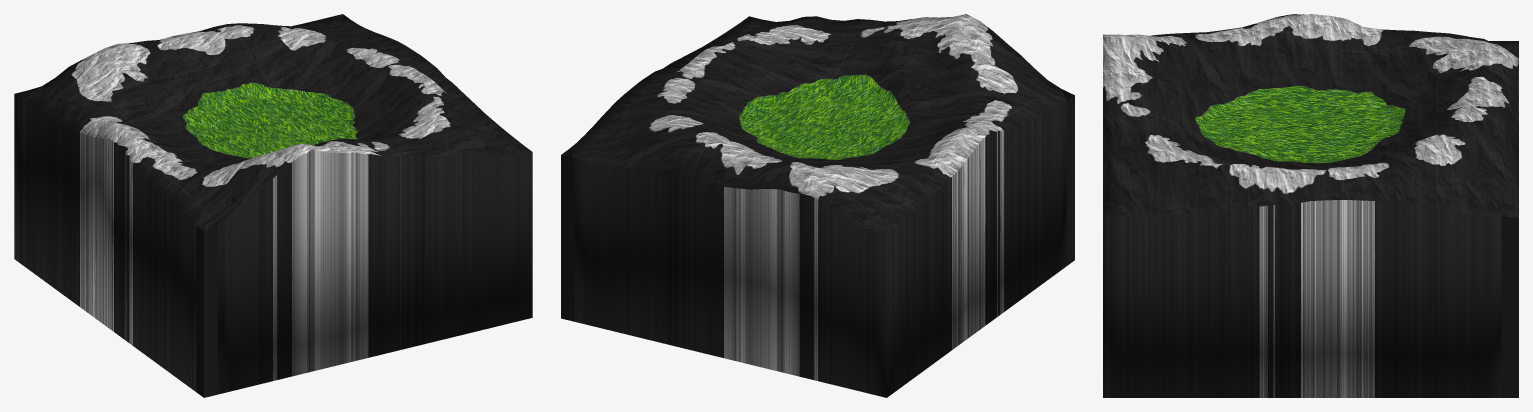
File: terrain.glb
3 views of the same model, side by side, from view 1: azimuth 30°, elevation 25°; view 2: azimuth 150°, elevation 25°; view 3: azimuth 270°, elevation 25° (orthographic). The views are drawn at different scales.
Parts seen in each view (by area): view 1: MeshInstance3D; view 2: MeshInstance3D; view 3: MeshInstance3D.
Part boxes in pixels (<box>): MeshInstance3D: <box>14,14,532,397</box>; MeshInstance3D: <box>561,14,1074,397</box>; MeshInstance3D: <box>1103,14,1518,397</box>.
Size of the model in its own units: 384 by 248 by 384.
Materials: 1 (1 with a texture image).
